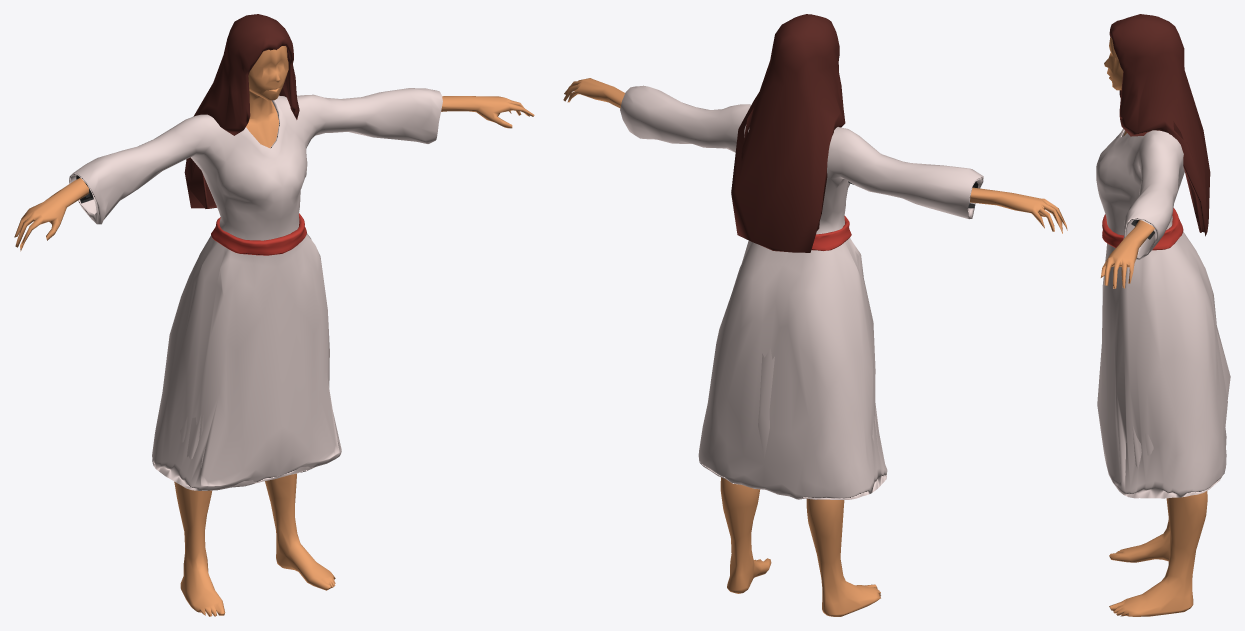
The model's file is Girl_var.1.fbx.
The picture shows the model from 3 angles, left to right: view 1: azimuth 30°, elevation 25°; view 2: azimuth 150°, elevation 25°; view 3: azimuth 270°, elevation 25°; orthographic projection.
Visible parts, largest first — view 1: Extract17, female_zbrush, Extract11, Extract27; view 2: Extract17, Extract11, female_zbrush, Extract27; view 3: Extract17, Extract11, female_zbrush, Extract27.
Boxes of the visible parts, <box> form: Extract17: <box>69,88,442,490</box>; female_zbrush: <box>14,46,534,616</box>; Extract11: <box>184,14,299,208</box>; Extract27: <box>211,213,306,255</box>; Extract17: <box>620,85,983,499</box>; Extract11: <box>731,14,845,252</box>; female_zbrush: <box>563,78,1067,616</box>; Extract27: <box>811,216,851,250</box>; Extract17: <box>1096,128,1230,498</box>; Extract11: <box>1109,14,1210,236</box>; female_zbrush: <box>1100,37,1207,616</box>; Extract27: <box>1102,208,1183,250</box>.
Bounding box in the file's own units: 260 × 281 × 60.25.
